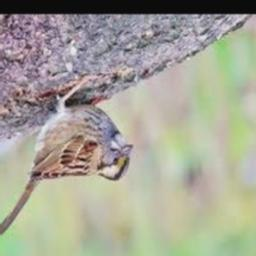Sparrow: (0, 74, 132, 238)
